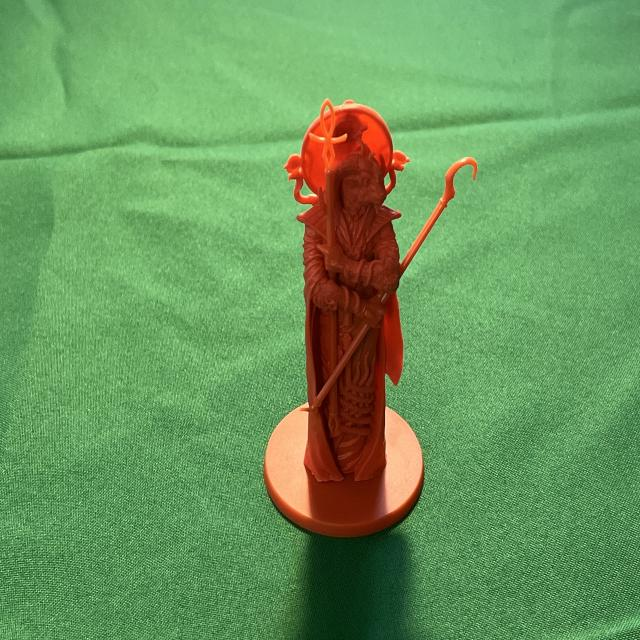amon: (259, 93, 482, 546)
